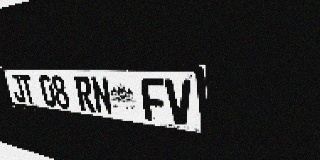0: (38, 75, 57, 107)
8: (50, 75, 71, 109)
F: (140, 78, 168, 123)
J: (9, 74, 26, 103)
N: (90, 77, 114, 115)
R: (74, 76, 96, 113)
T: (19, 75, 37, 105)
V: (164, 79, 194, 126)
